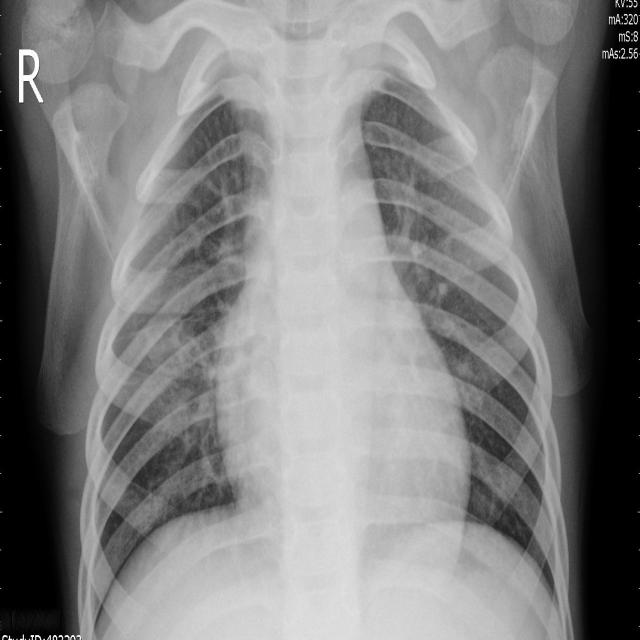low-pneumonia: (383, 154, 471, 337), (158, 306, 221, 454)
